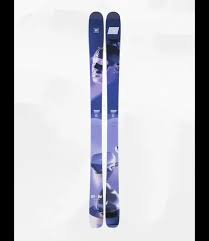skis: (86, 12, 122, 229)
